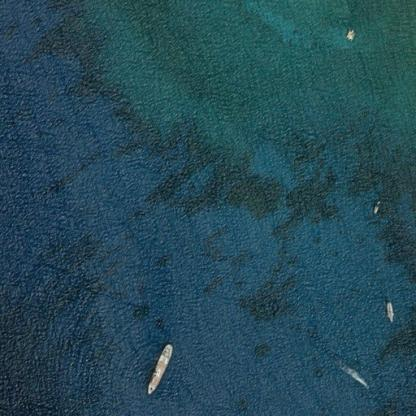ship: (139, 337, 178, 397), (378, 296, 399, 326), (366, 196, 386, 218), (341, 25, 360, 42), (358, 378, 372, 395)
